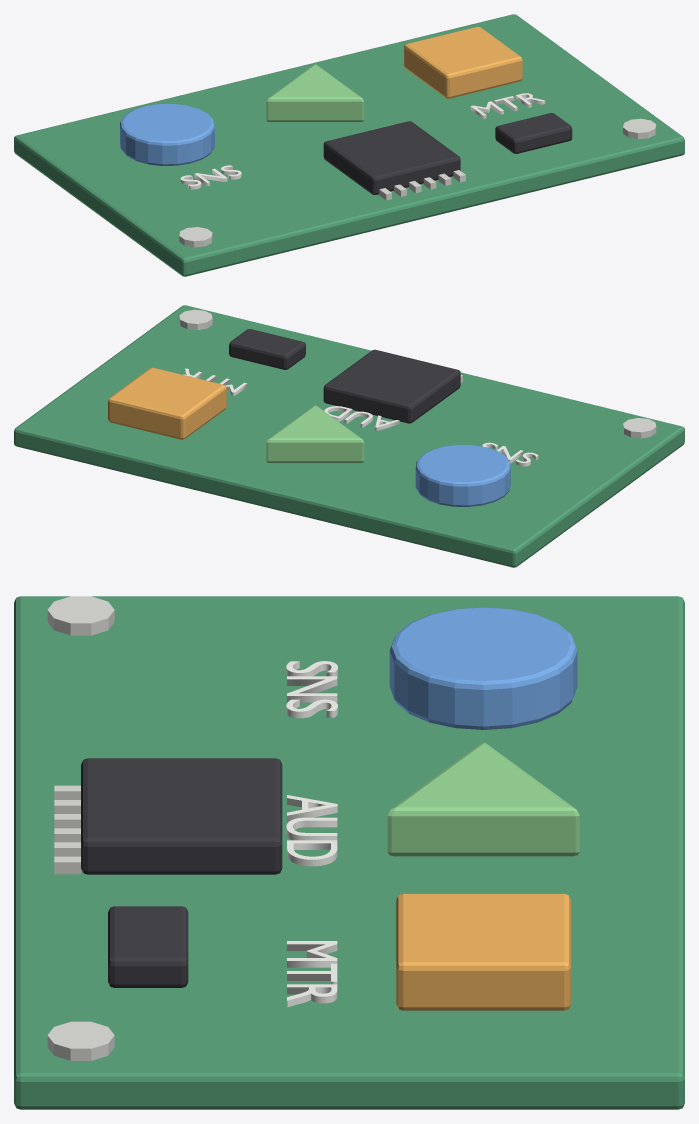
Rendered from part_board.fbx.
The picture shows the model from 3 angles, top to bottom: view 1: azimuth 30°, elevation 25°; view 2: azimuth 150°, elevation 25°; view 3: azimuth 270°, elevation 25°; orthographic projection. The views are drawn at different scales.
Parts seen in each view (by area): view 1: part_board; view 2: part_board; view 3: part_board.
Boxes of the visible parts, left/top/right/bottom form: part_board: left=14, top=14, right=684, bottom=276; part_board: left=14, top=305, right=684, bottom=567; part_board: left=14, top=596, right=684, bottom=1109.
Size of the model in its own units: 0.17 by 0.014 by 0.1.
